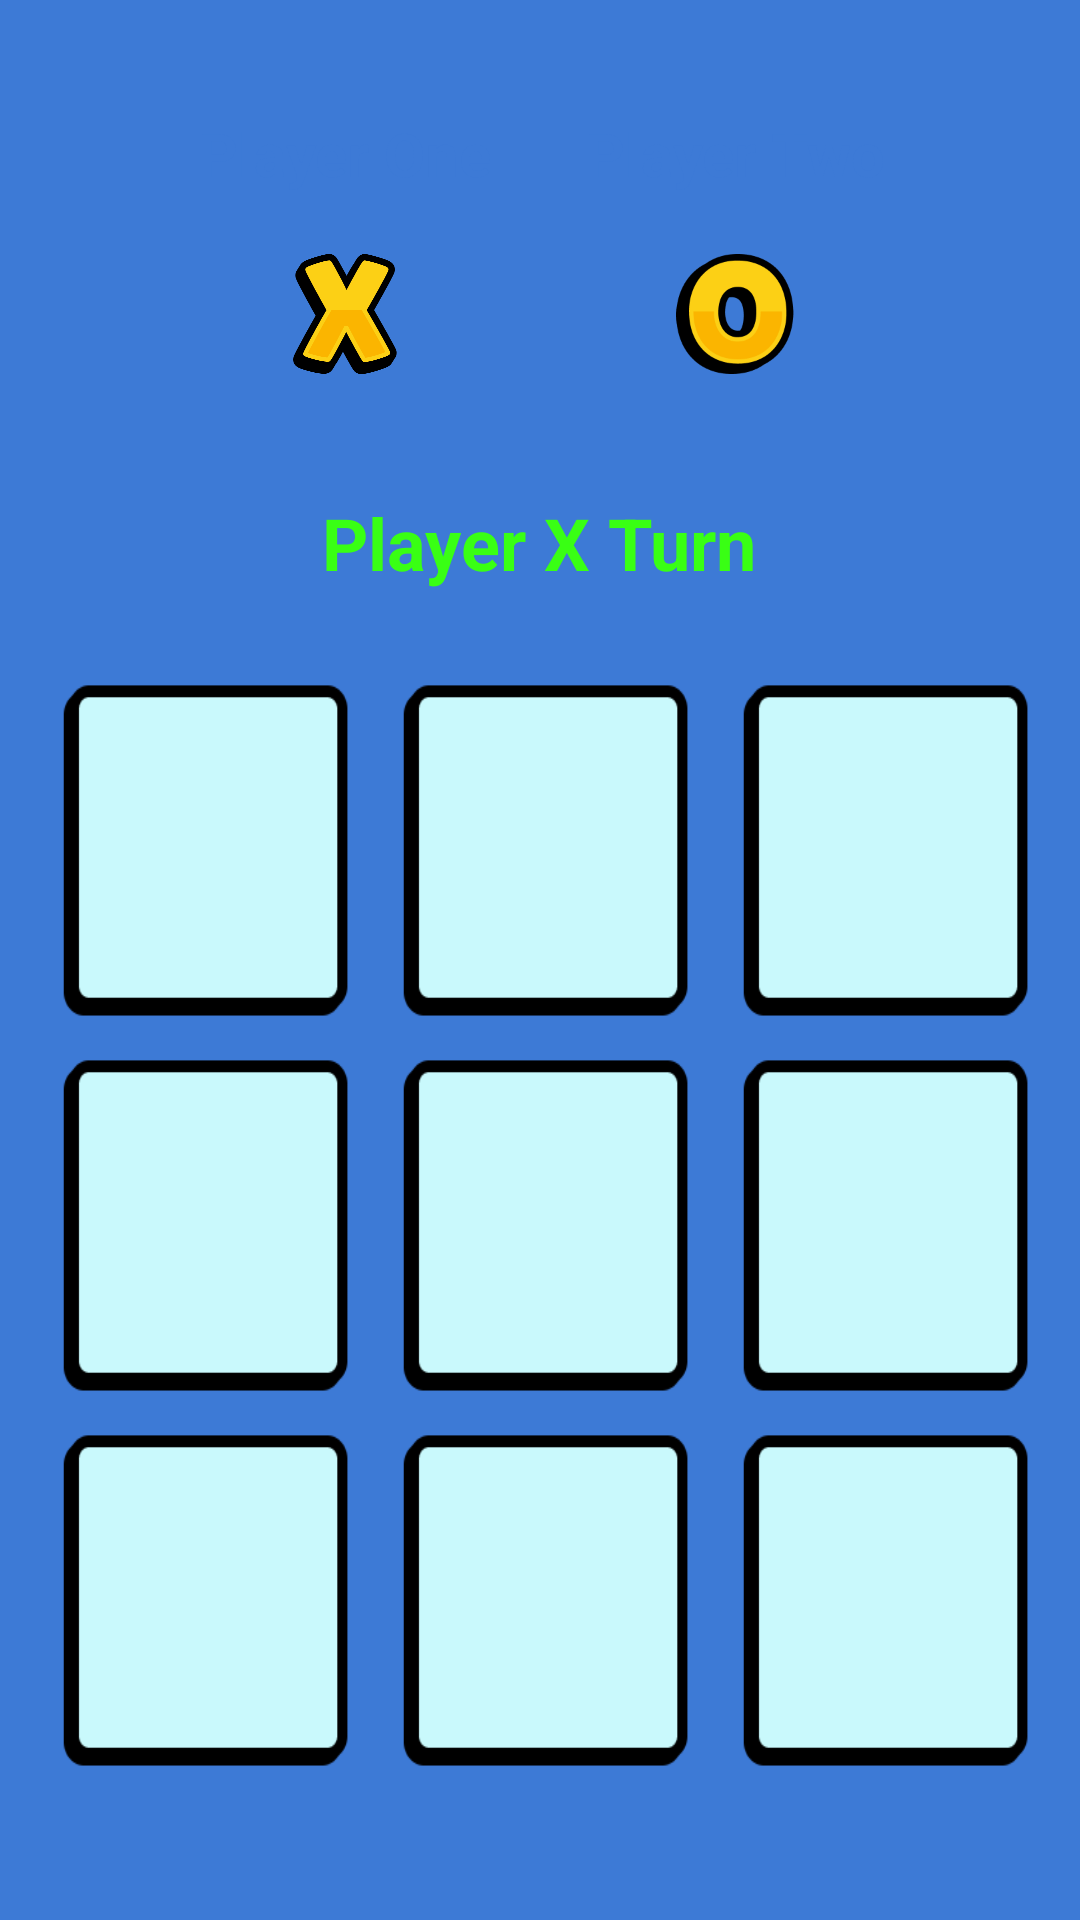

Icons on this 1080w x 1920h Android screen, each with the point to tap as [x,y]:
oplayer: [735,314]
xplayer: [345,314]
